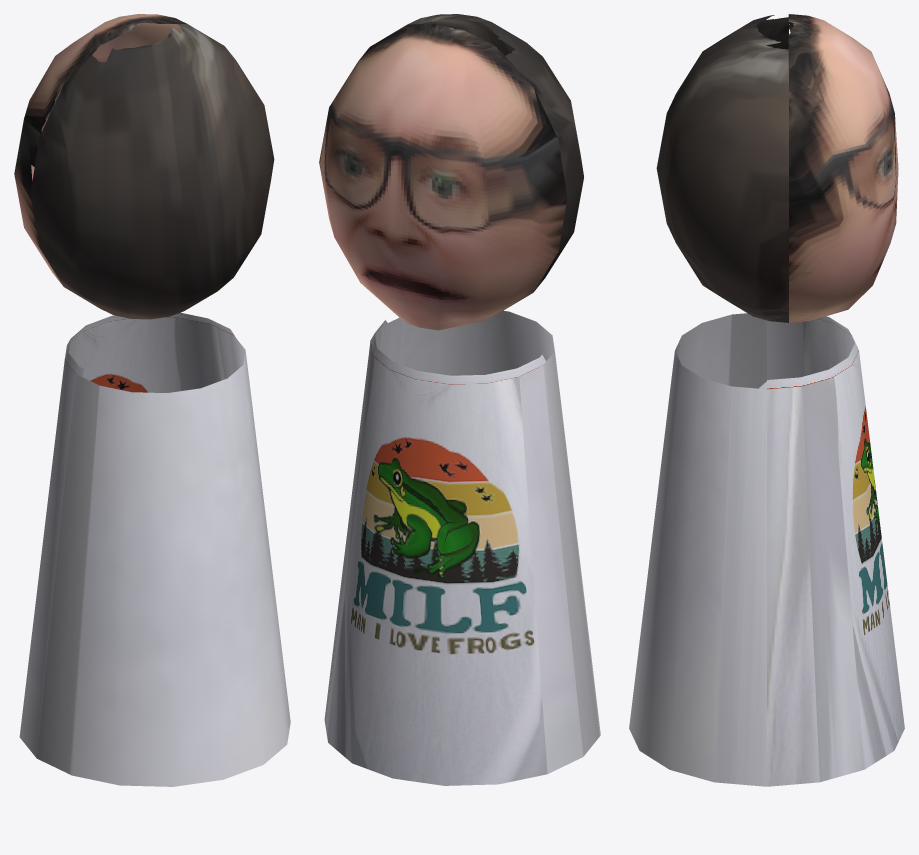
Rendered from levi_mii.fbx.
3 views of the same model, side by side, from view 1: azimuth 30°, elevation 25°; view 2: azimuth 150°, elevation 25°; view 3: azimuth 270°, elevation 25° (orthographic).
Parts seen in each view (by area): view 1: mii; view 2: mii; view 3: mii.
Boxes of the visible parts, <box> form: mii: <box>14,14,290,786</box>; mii: <box>319,14,600,785</box>; mii: <box>629,14,904,786</box>.
Size of the model in its own units: 50 by 160 by 50.
